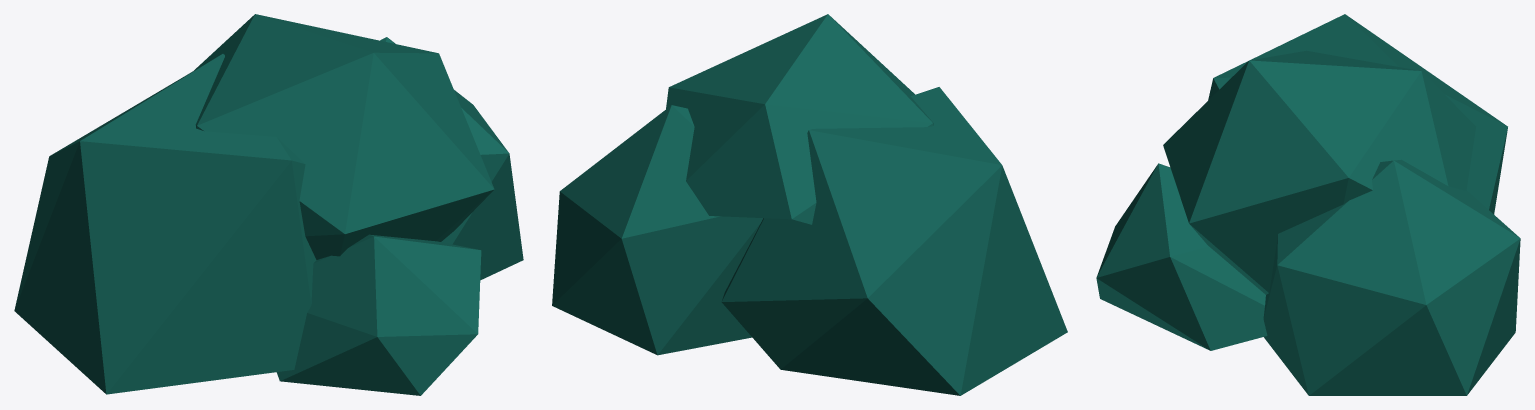
Rendered from bush1.fbx.
The picture shows the model from 3 angles, left to right: view 1: azimuth 30°, elevation 25°; view 2: azimuth 150°, elevation 25°; view 3: azimuth 270°, elevation 25°; orthographic projection. The views are drawn at different scales.
Parts seen in each view (by area): view 1: Cube; view 2: Cube; view 3: Cube.
Boxes of the visible parts, x1=… form: Cube: x1=14, y1=14, x2=523, y2=395; Cube: x1=552, y1=14, x2=1067, y2=395; Cube: x1=1096, y1=14, x2=1520, y2=395.
Bounding box in the file's own units: 400 × 232 × 347.
